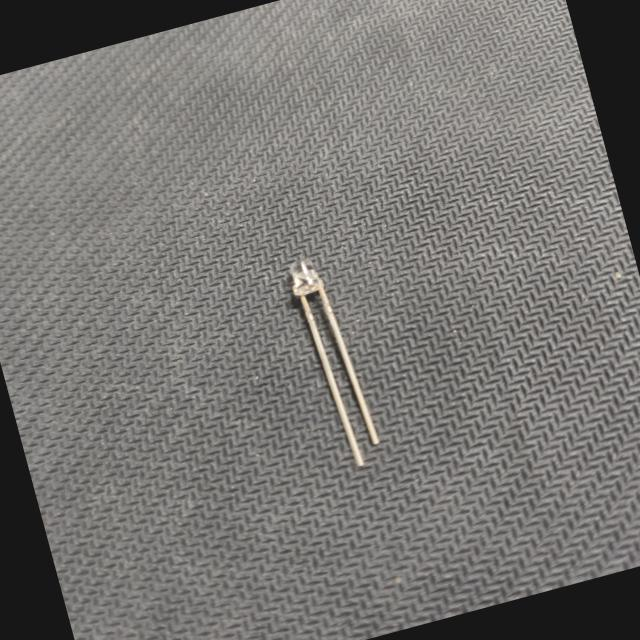led: (267, 235, 402, 476)
